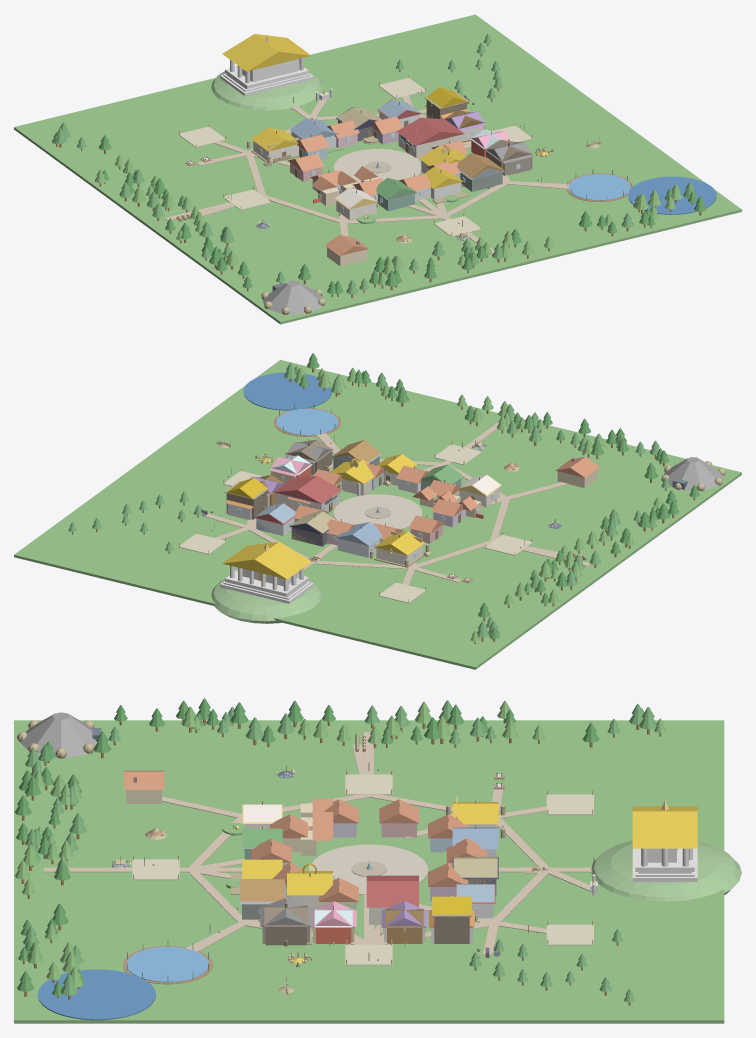
Rendered from village.glb.
3 views of the same model, one above another, from view 1: azimuth 30°, elevation 25°; view 2: azimuth 150°, elevation 25°; view 3: azimuth 270°, elevation 25° (orthographic). The views are drawn at different scales.
Visible parts, largest first — view 1: tanah, bukit_zeus, aula_atap, lake, plaza, pond, bukit_naga, office_atap, zeus_atap, aula_dinding, daedalus_atap.001, athena_atap (+9 smaller); view 2: tanah, bukit_zeus, lake, plaza, aula_atap, pond, bukit_naga, office_atap, aula_lantai, zeus_atap, athena_atap, bank_atap (+6 smaller); view 3: tanah, bukit_zeus, lake, plaza, aula_atap, pond, bukit_naga, office_atap, bank_atap, plot_1, plot_2, plot_3 (+32 smaller).
Boxes of the visible parts, left/top/right/bottom form: tanah: left=14, top=14, right=741, bottom=324; bukit_zeus: left=211, top=66, right=322, bottom=110; aula_atap: left=222, top=34, right=311, bottom=71; lake: left=628, top=176, right=716, bottom=214; plaza: left=333, top=149, right=421, bottom=183; pond: left=568, top=174, right=630, bottom=200; bukit_naga: left=262, top=280, right=322, bottom=314; office_atap: left=396, top=117, right=464, bottom=145; zeus_atap: left=251, top=127, right=298, bottom=151; aula_dinding: left=242, top=59, right=298, bottom=81; daedalus_atap.001: left=457, top=153, right=503, bottom=177; athena_atap: left=289, top=118, right=338, bottom=138; tanah: left=14, top=360, right=741, bottom=669; bukit_zeus: left=211, top=579, right=322, bottom=623; lake: left=243, top=372, right=331, bottom=410; plaza: left=333, top=494, right=422, bottom=529; aula_atap: left=222, top=541, right=311, bottom=579; pond: left=276, top=408, right=338, bottom=435; bukit_naga: left=664, top=457, right=724, bottom=490; office_atap: left=273, top=476, right=341, bottom=503; aula_lantai: left=225, top=569, right=308, bottom=596; zeus_atap: left=374, top=531, right=424, bottom=555; athena_atap: left=336, top=522, right=382, bottom=545; bank_atap: left=330, top=459, right=374, bottom=483; tanah: left=14, top=720, right=724, bottom=1023; bukit_zeus: left=591, top=840, right=741, bottom=901; lake: left=37, top=969, right=155, bottom=1020; plaza: left=310, top=844, right=428, bottom=894; aula_atap: left=632, top=806, right=697, bottom=848; pond: left=126, top=947, right=209, bottom=982; bukit_naga: left=19, top=712, right=97, bottom=757; office_atap: left=366, top=875, right=418, bottom=907; bank_atap: left=287, top=871, right=332, bottom=895; plot_1: left=546, top=794, right=593, bottom=815; plot_2: left=546, top=924, right=593, bottom=945; plot_3: left=132, top=859, right=179, bottom=880.
Bounding box in the file's own units: 120 × 23.1 × 123.
